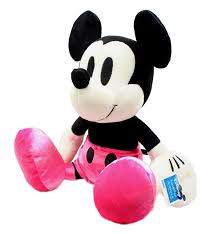Mickey: (54, 6, 174, 124)
